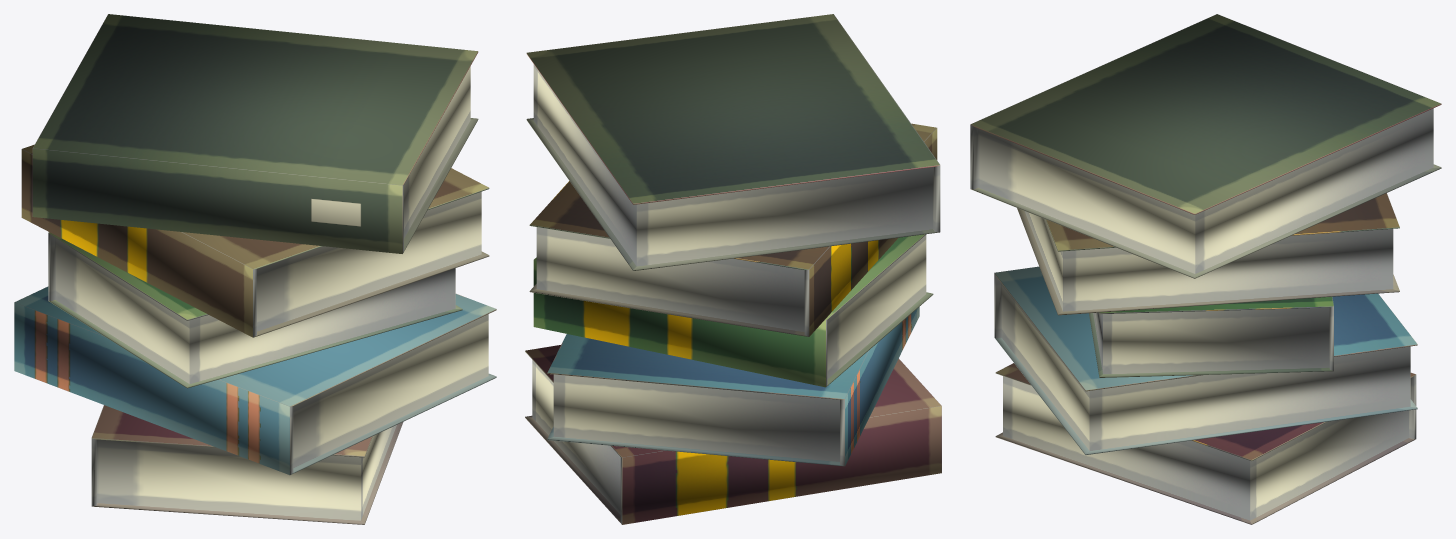
Rendered from Book Stack 2.fbx.
The picture shows the model from 3 angles, left to right: view 1: azimuth 30°, elevation 25°; view 2: azimuth 150°, elevation 25°; view 3: azimuth 270°, elevation 25°; orthographic projection. The views are drawn at different scales.
Visible parts, largest first — view 1: Book Stack 2; view 2: Book Stack 2; view 3: Book Stack 2.
Part boxes in pixels (x1,y1,x2,y2): Book Stack 2: (14,14,496,524); Book Stack 2: (525,14,941,524); Book Stack 2: (970,14,1441,524).
Bounding box in the file's own units: 28.44 × 21.5 × 28.32.
